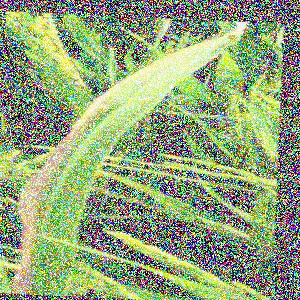Leaf_Blast: (18, 122, 95, 300)
